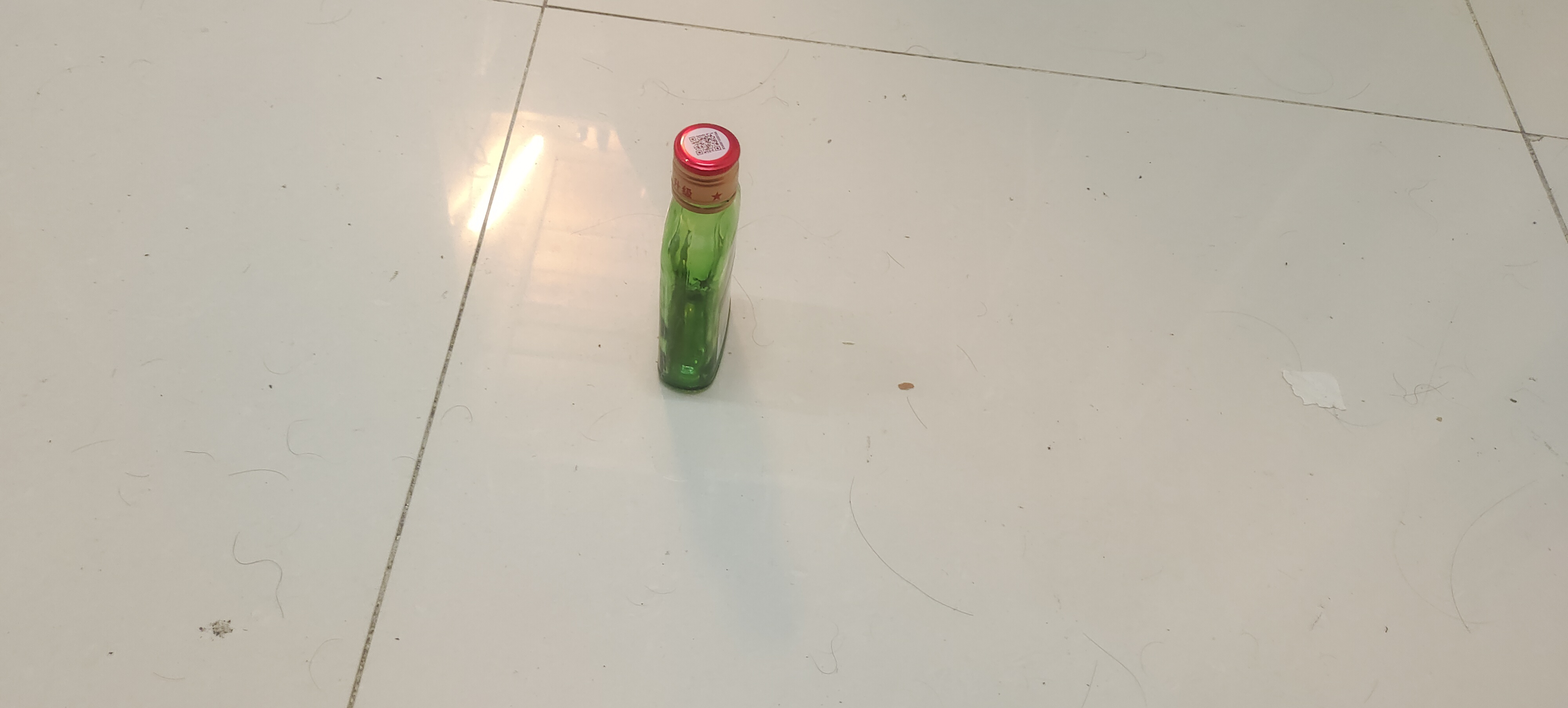redbull: (436, 65, 965, 506)
